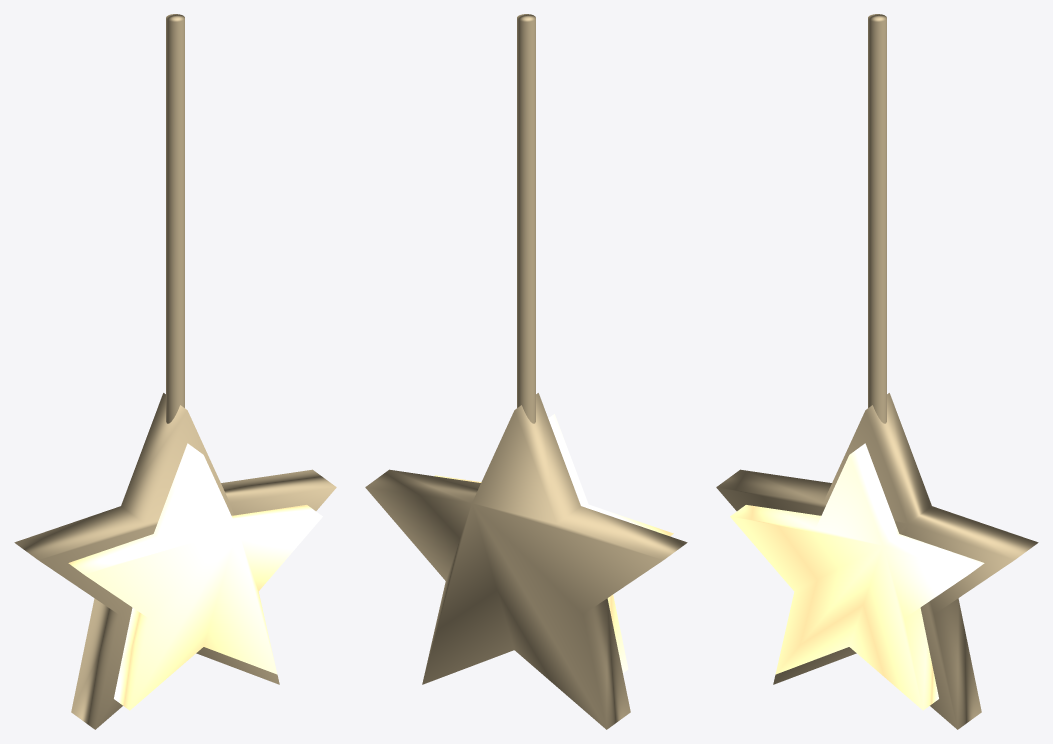
The model's file is star_pendant.glb.
The picture shows the model from 3 angles, left to right: view 1: azimuth 30°, elevation 25°; view 2: azimuth 150°, elevation 25°; view 3: azimuth 330°, elevation 25°; orthographic projection.
Parts seen in each view (by area): view 1: emissive face, star frame, cord; view 2: star frame, cord, emissive face; view 3: emissive face, star frame, cord.
Part boxes in pixels (left/top/right/bottom): emissive face: left=68, top=443, right=322, bottom=710; star frame: left=14, top=393, right=336, bottom=729; cord: left=166, top=14, right=184, bottom=423; star frame: left=365, top=393, right=687, bottom=729; cord: left=517, top=14, right=535, bottom=423; emissive face: left=434, top=414, right=673, bottom=672; emissive face: left=730, top=443, right=984, bottom=710; star frame: left=716, top=393, right=1038, bottom=729; cord: left=868, top=14, right=886, bottom=423.
Bounding box in the file's own units: 0.428 × 0.932 × 0.1.
